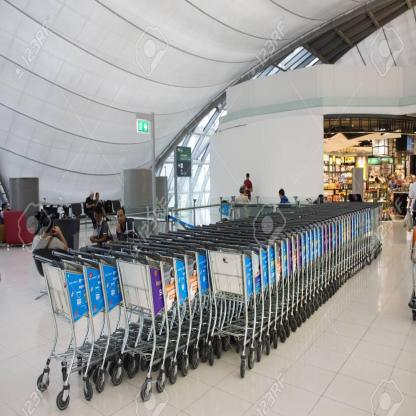airport-trolley: (33, 255, 103, 408), (54, 252, 135, 376), (210, 248, 269, 362), (118, 258, 159, 388), (96, 259, 141, 375), (247, 252, 297, 334), (185, 254, 228, 348), (174, 257, 212, 357), (253, 252, 307, 320), (269, 245, 313, 316), (279, 239, 323, 305), (288, 236, 333, 298), (313, 222, 357, 274), (302, 229, 345, 280), (327, 218, 364, 269), (334, 217, 374, 263), (161, 262, 175, 385), (346, 213, 381, 255), (358, 210, 381, 258), (366, 209, 382, 240)
